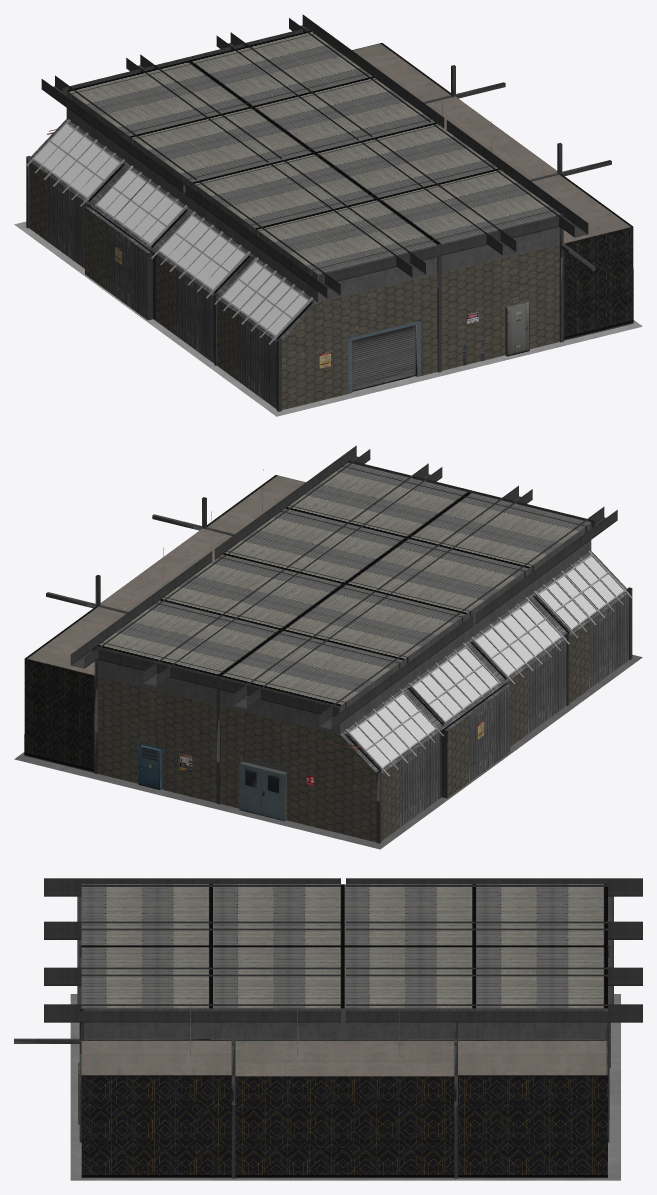
Rendered from drift garage.fbx.
3 views of the same model, one above another, from view 1: azimuth 30°, elevation 25°; view 2: azimuth 150°, elevation 25°; view 3: azimuth 270°, elevation 25° (orthographic). The views are drawn at different scales.
Parts seen in each view (by area): view 1: garage1, windo; view 2: garage1, windo; view 3: garage1.
Part boxes in pixels (x1,y1,x2,y2): garage1: [14, 14, 642, 416]; windo: [33, 124, 307, 334]; garage1: [14, 445, 642, 849]; windo: [350, 556, 623, 767]; garage1: [14, 878, 642, 1180].
Bounding box in the file's own units: 28776 × 10204 × 36302.
